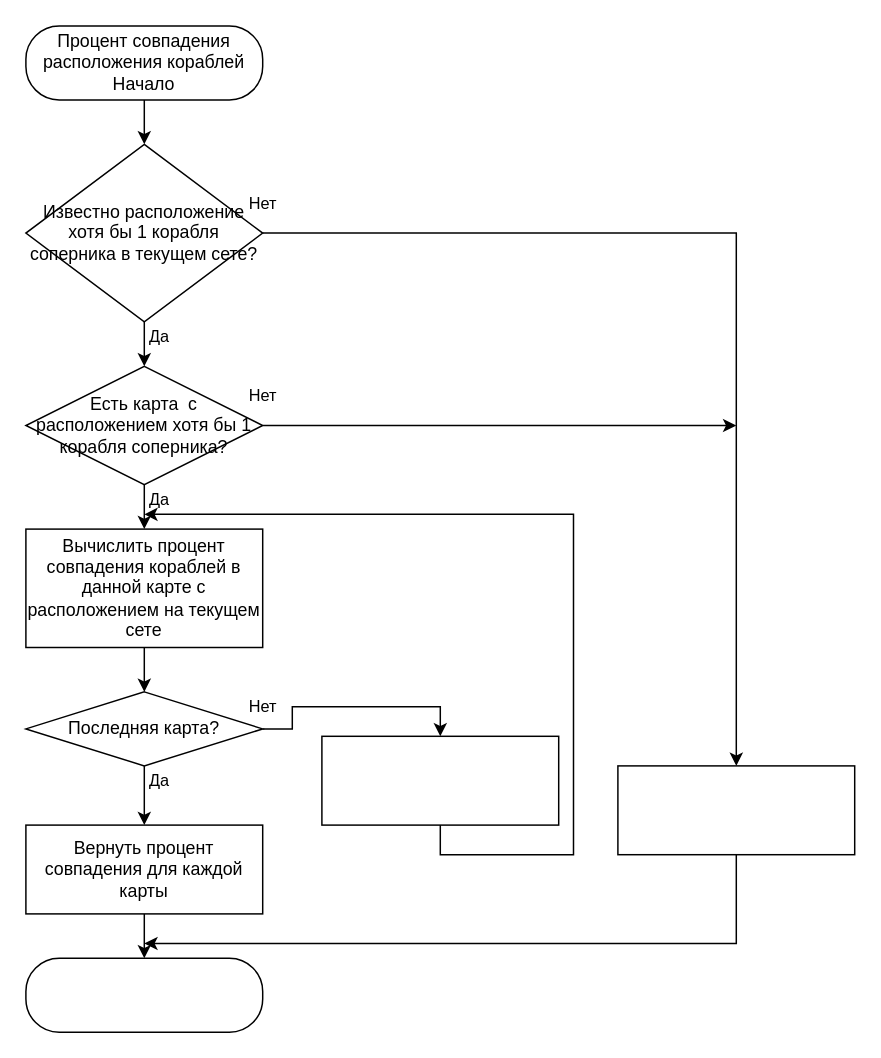
Image size: 881x1058. Some labels were removed from this diagram. Here are the shapes that lost their labels. From the top down, the centre of each, then its label:
At point (439, 780): "Перейти к след. карте".
At point (735, 809): "Вернуть 0".
At point (143, 994): "Процент совпадения расположения кораблей Конец".
